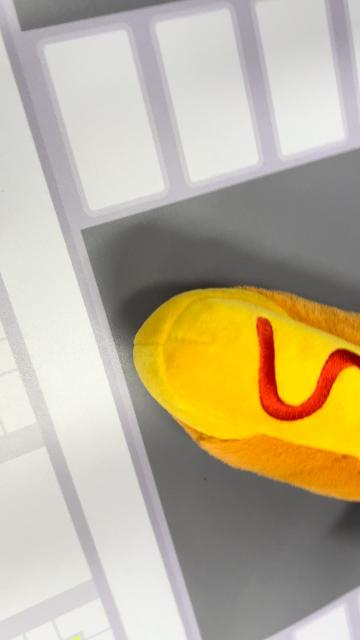hotdog: (132, 284, 358, 504)
